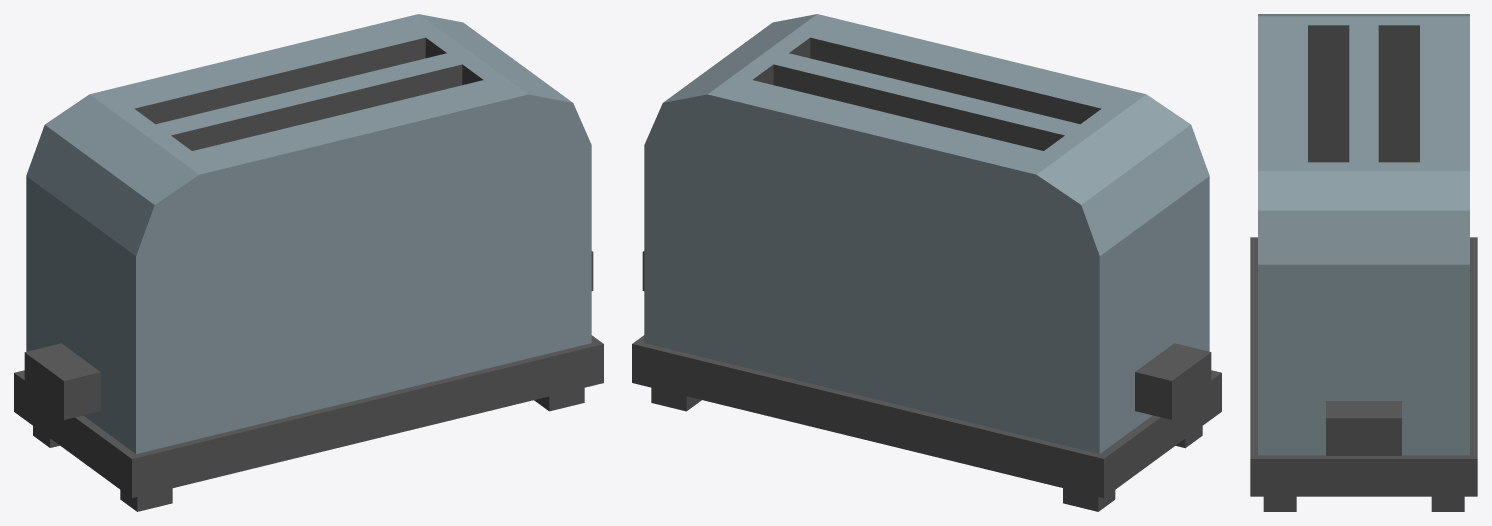
File: 烤面包机_248.glb
The picture shows the model from 3 angles, left to right: view 1: azimuth 30°, elevation 25°; view 2: azimuth 150°, elevation 25°; view 3: azimuth 270°, elevation 25°; orthographic projection. The views are drawn at different scales.
Parts seen in each view (by area): view 1: toaster_Cube; view 2: toaster_Cube; view 3: toaster_Cube.
Boxes of the visible parts, x1,y1,x2,y2 form: toaster_Cube: (14,14,603,511); toaster_Cube: (632,14,1221,511); toaster_Cube: (1250,14,1477,511).
Bounding box in the file's own units: 17.03 × 9.99 × 6.57.
